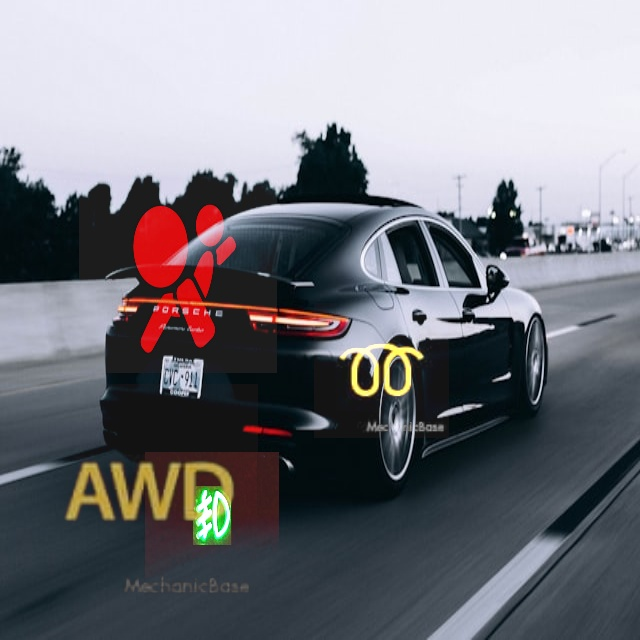symbol: (38, 384, 258, 604), (79, 175, 277, 373), (314, 303, 449, 438), (145, 452, 279, 586)
